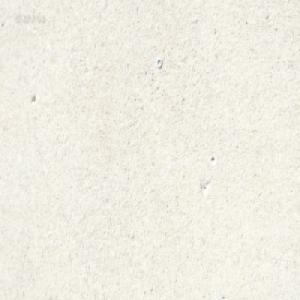Washer: (156, 58, 162, 69)
